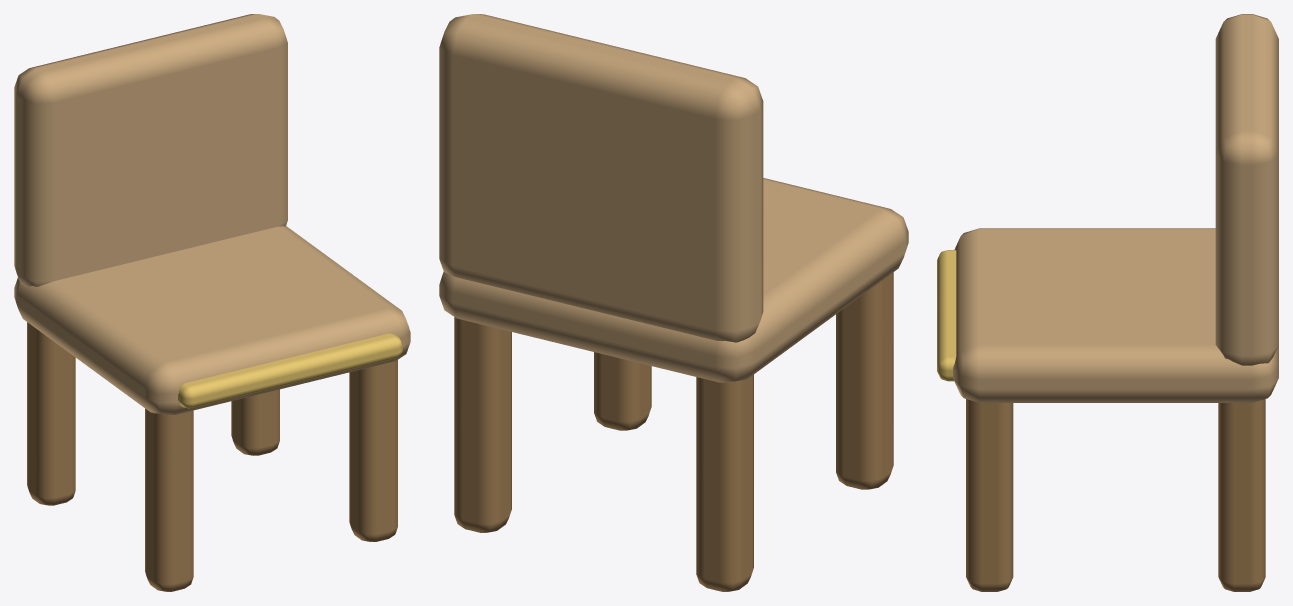
The model's file is chair.glb.
3 renders of one model, left to right at view 1: azimuth 30°, elevation 25°; view 2: azimuth 150°, elevation 25°; view 3: azimuth 270°, elevation 25°, orthographic. The views are drawn at different scales.
Size of the model in its own units: 0.62 by 0.97 by 0.65.
